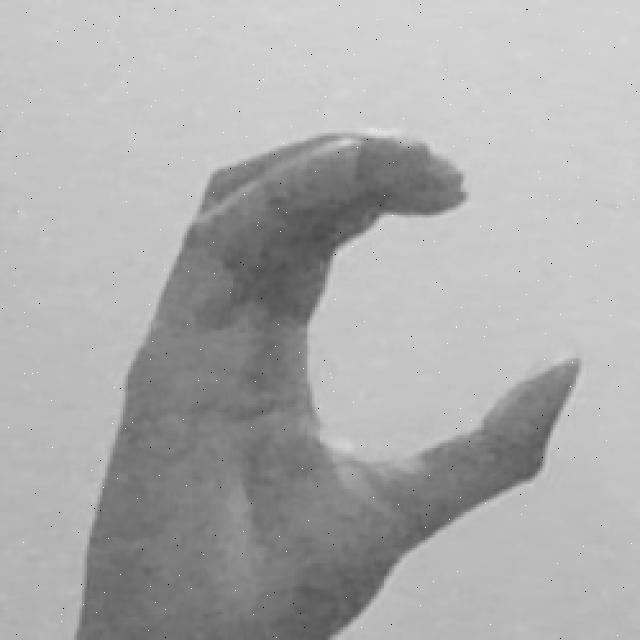C: (79, 129, 582, 640)
